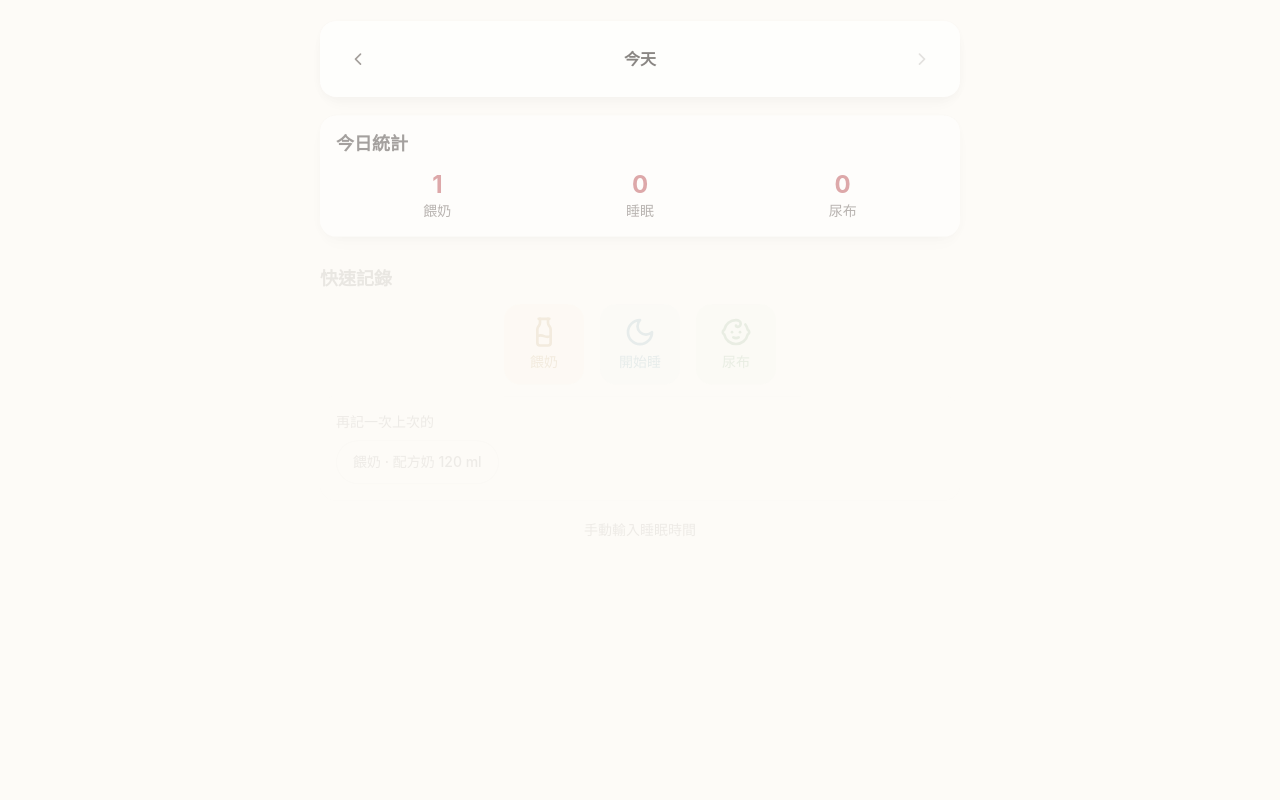
Test: 沿用上一筆 › 開餵奶表單時帶出這個孩子上次的值
Click the button "餵奶" at (544,344), box [504,304,584,384]
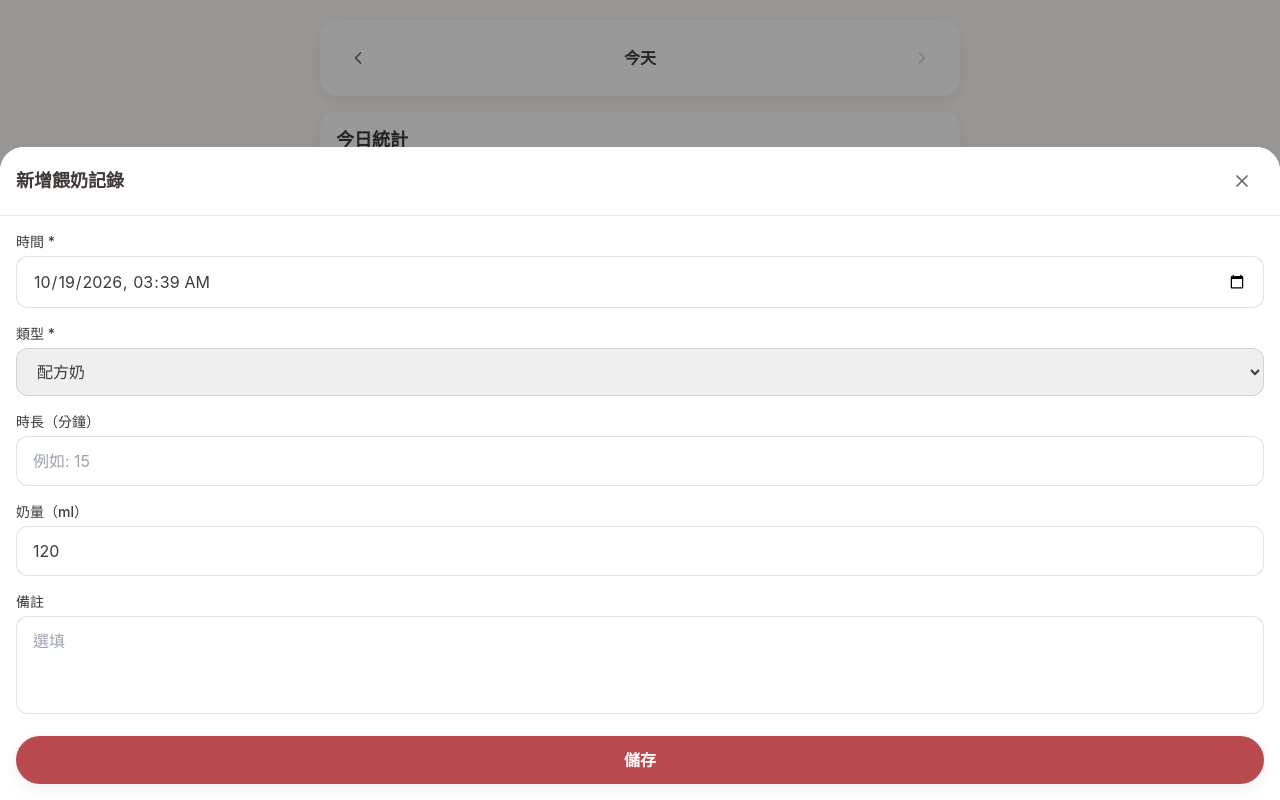
Now the dropdown labelled "類型 *" shows "配方奶", box [16,348,1264,396]
Now the number field labelled "奶量（ml）" holds "120", box [16,526,1264,576]
